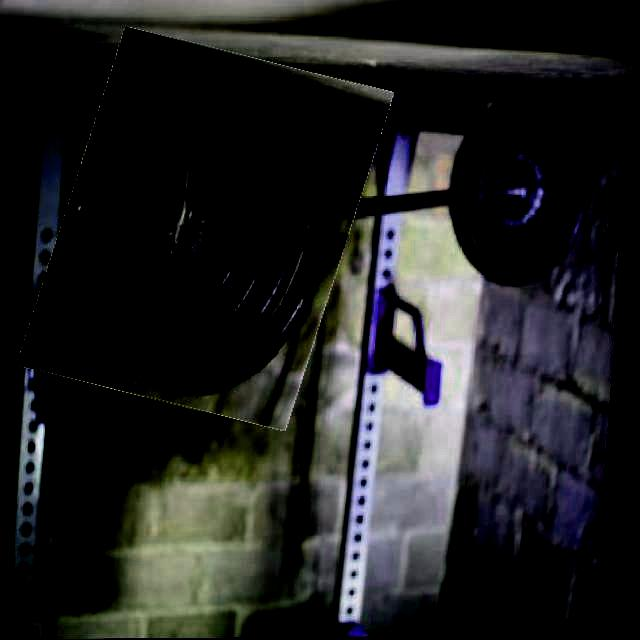barbell: (40, 40, 380, 419)
